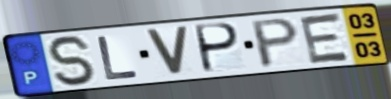E: (297, 11, 353, 66)
L: (94, 34, 142, 82)
P: (250, 15, 302, 70), (194, 21, 243, 75)
S: (45, 34, 101, 88)
V: (142, 25, 191, 77)
